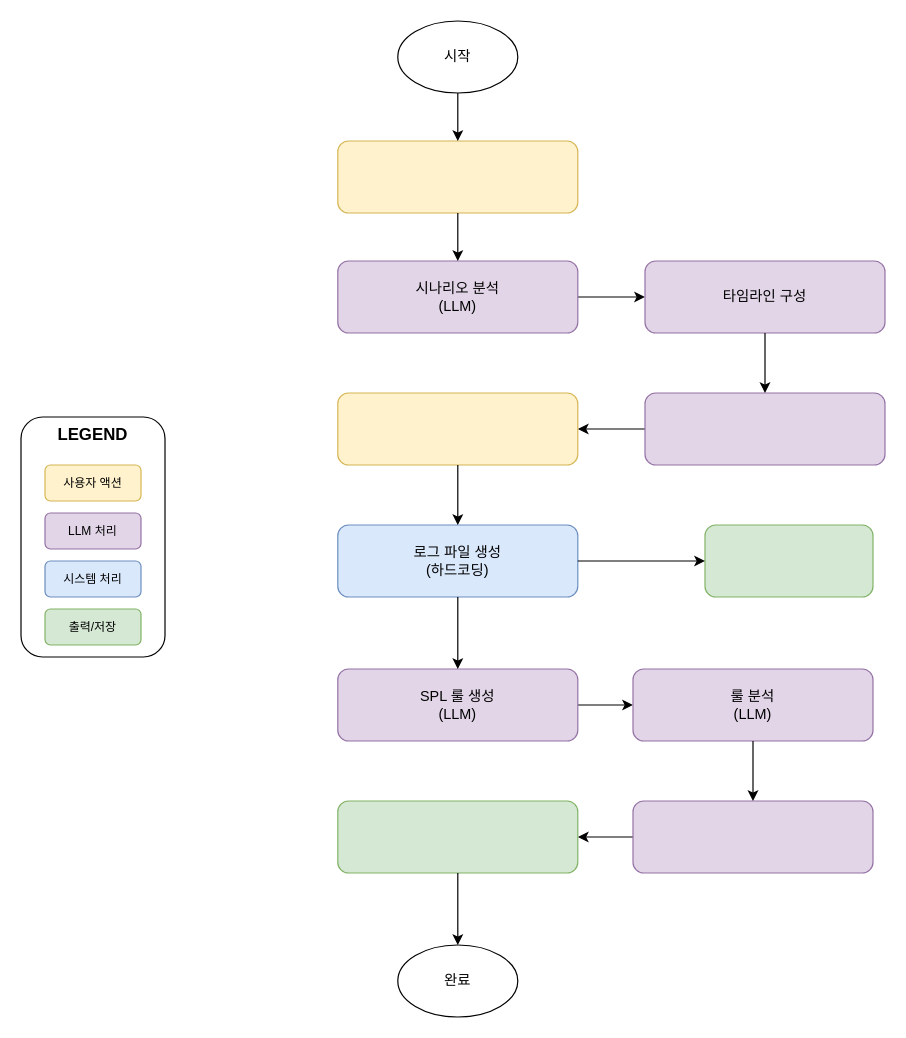
Some shapes in this 906 by 1038 pixel diagram are drawn without their labels. Here are the shapes that lost their labels. From the top down, the box of each, then its label:
(337, 140, 578, 213): 사용자 입력 (자연어/샘플 시나리오)
(337, 392, 578, 465): 로그 갯수 설정 (사용자 입력)
(644, 392, 885, 465): 필요한 로그 데이터 예측 (LLM)
(704, 524, 873, 597): ZIP 파일 생성 및 다운로드
(337, 800, 578, 873): 라이브러리에 저장 (기록 보관)
(632, 800, 873, 873): 분석 리포트 출력 (UI 표시)
